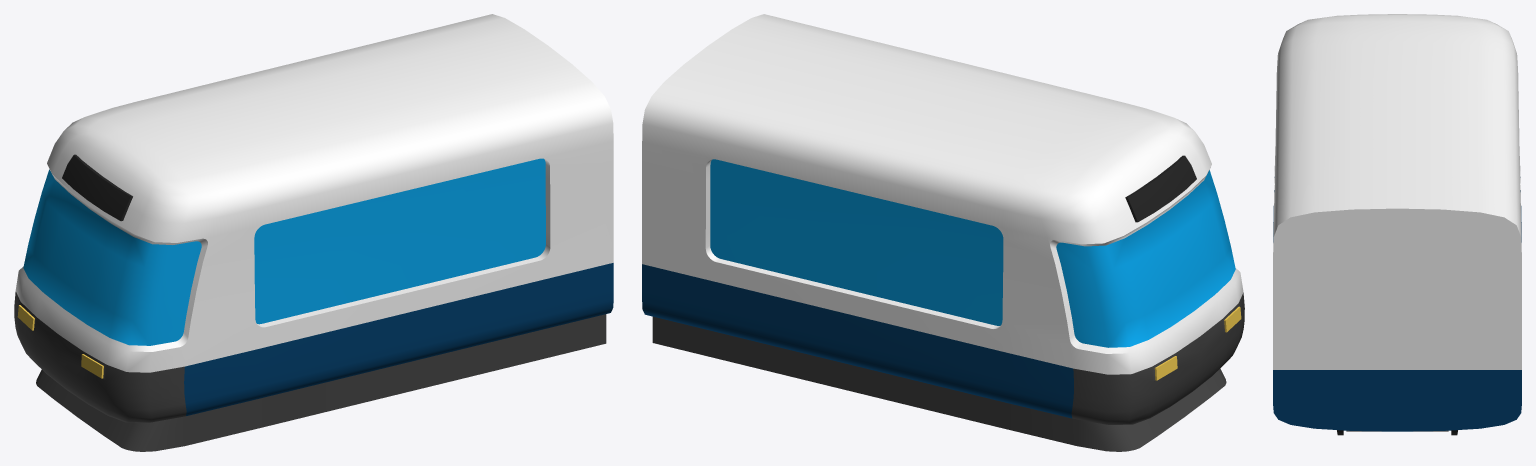
Rendered from light_rail.glb.
3 renders of one model, left to right at view 1: azimuth 30°, elevation 25°; view 2: azimuth 150°, elevation 25°; view 3: azimuth 270°, elevation 25°, orthographic. The views are drawn at different scales.
Parts seen in each view (by area): view 1: Cube.575; view 2: Cube.575; view 3: Cube.575.
Part boxes in pixels (x1=…): Cube.575: x1=14, y1=14, x2=613, y2=451; Cube.575: x1=642, y1=14, x2=1244, y2=451; Cube.575: x1=1273, y1=14, x2=1521, y2=435.
Bounding box in the file's own units: 2.19 × 1.13 × 1.01.
1 material, 1 textured.
